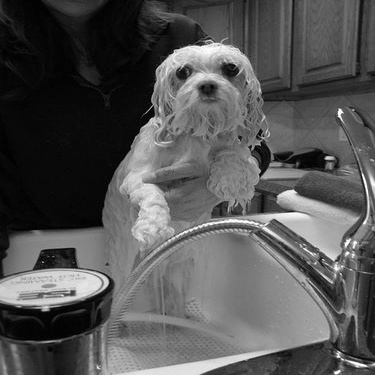dog: (95, 31, 276, 348)
